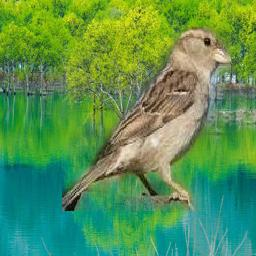Sparrow: (63, 27, 232, 211)
